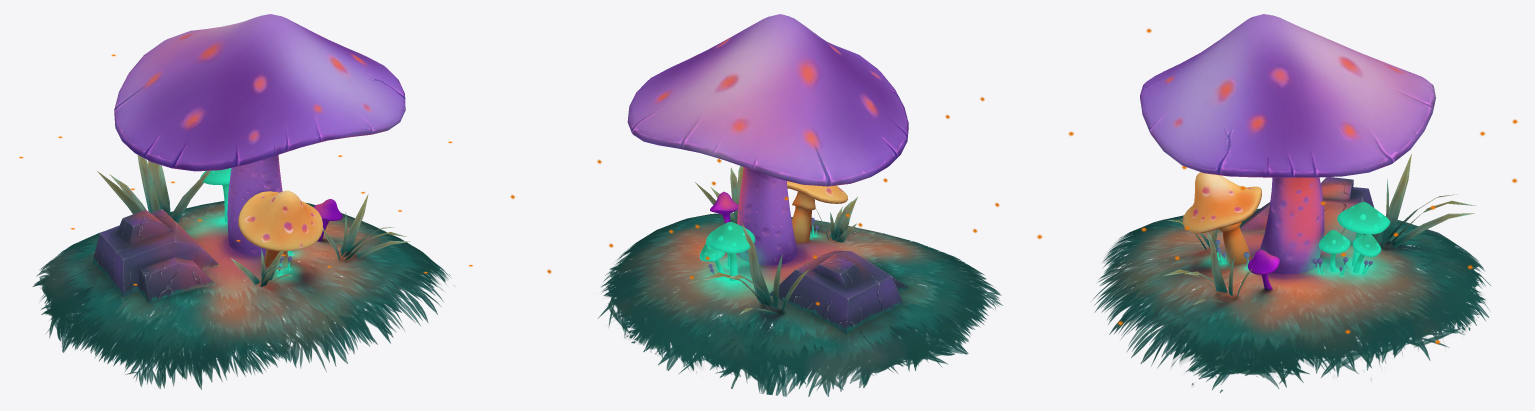
The model's file is about-transformed.glb.
3 views of the same model, side by side, from view 1: azimuth 30°, elevation 25°; view 2: azimuth 150°, elevation 25°; view 3: azimuth 270°, elevation 25° (orthographic). The views are drawn at different scales.
Visible parts, largest first — view 1: Circle_mushroms_0, Plane_ground_0; view 2: Circle_mushroms_0, Plane_ground_0; view 3: Circle_mushroms_0, Plane_ground_0.
Boxes of the visible parts, x1=… form: Circle_mushroms_0: x1=92, y1=14, x2=410, y2=303; Plane_ground_0: x1=19, y1=54, x2=472, y2=389; Circle_mushroms_0: x1=627, y1=14, x2=908, y2=334; Plane_ground_0: x1=510, y1=97, x2=1002, y2=396; Circle_mushroms_0: x1=1140, y1=14, x2=1475, y2=304; Plane_ground_0: x1=1037, y1=28, x2=1517, y2=392.
Size of the model in its own units: 4.37 by 3.12 by 4.49.
Materials: 2 (2 with a texture image).
